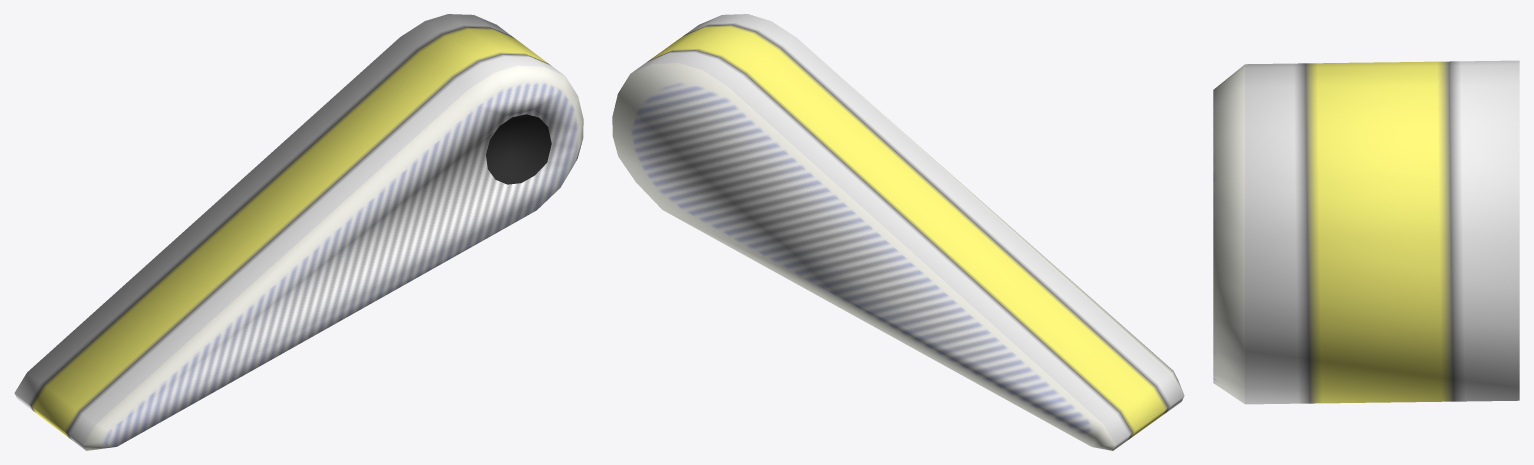
The model's file is pinball.paddle.R.fbx.
3 renders of one model, left to right at view 1: azimuth 30°, elevation 25°; view 2: azimuth 150°, elevation 25°; view 3: azimuth 270°, elevation 25°, orthographic. The views are drawn at different scales.
Parts seen in each view (by area): view 1: Paddle; view 2: Paddle; view 3: Paddle.
Boxes of the visible parts, <box> form: Paddle: <box>14,14,583,450</box>; Paddle: <box>612,14,1184,450</box>; Paddle: <box>1213,60,1519,404</box>.
Bounding box in the file's own units: 0.3044 × 0.1645 × 0.0807.
